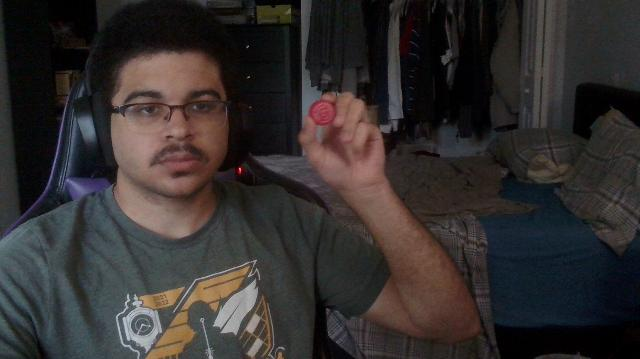cap: (310, 101, 336, 125)
